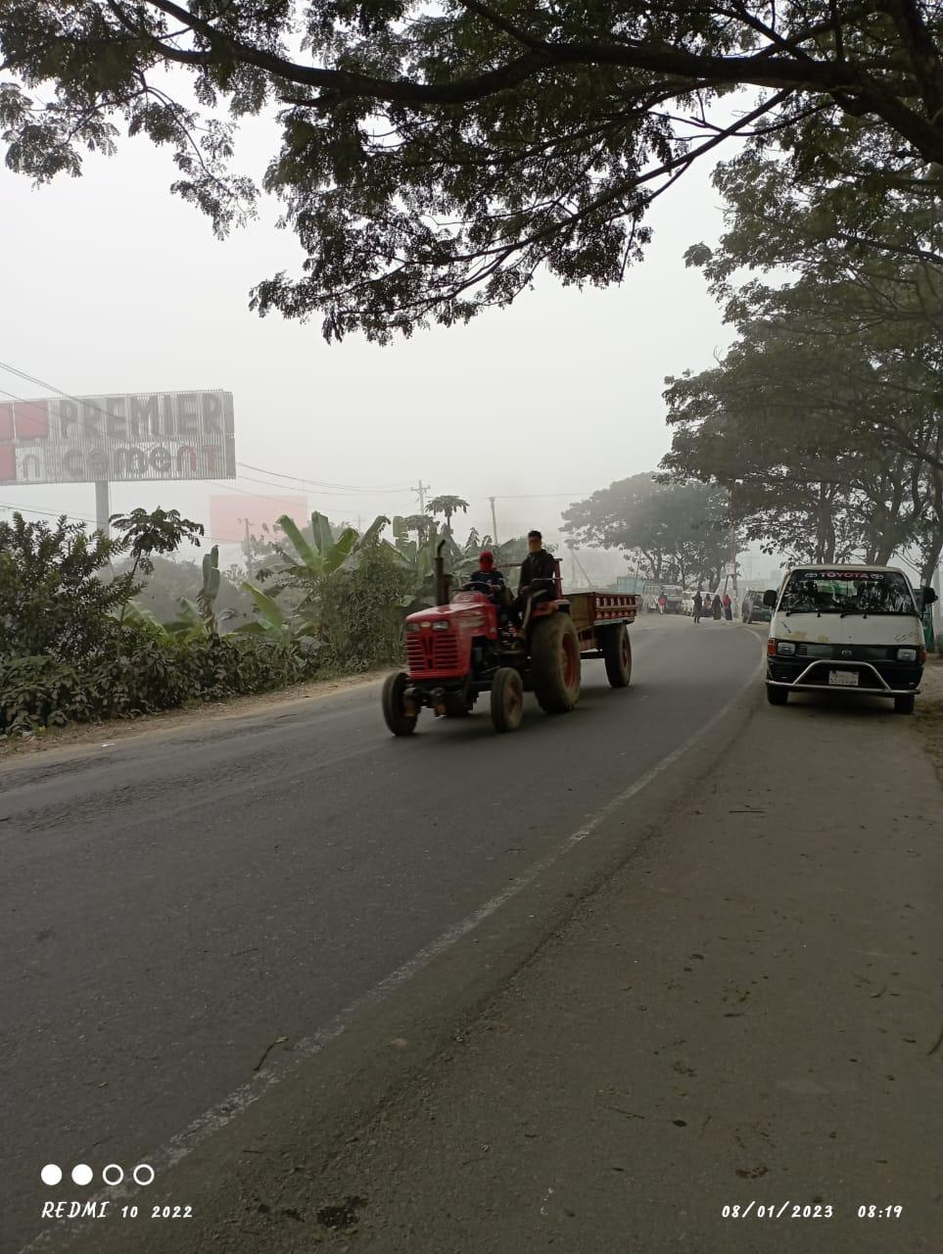Bus: (643, 576, 689, 617)
Car: (762, 554, 933, 718)
Truck: (366, 525, 651, 733)
